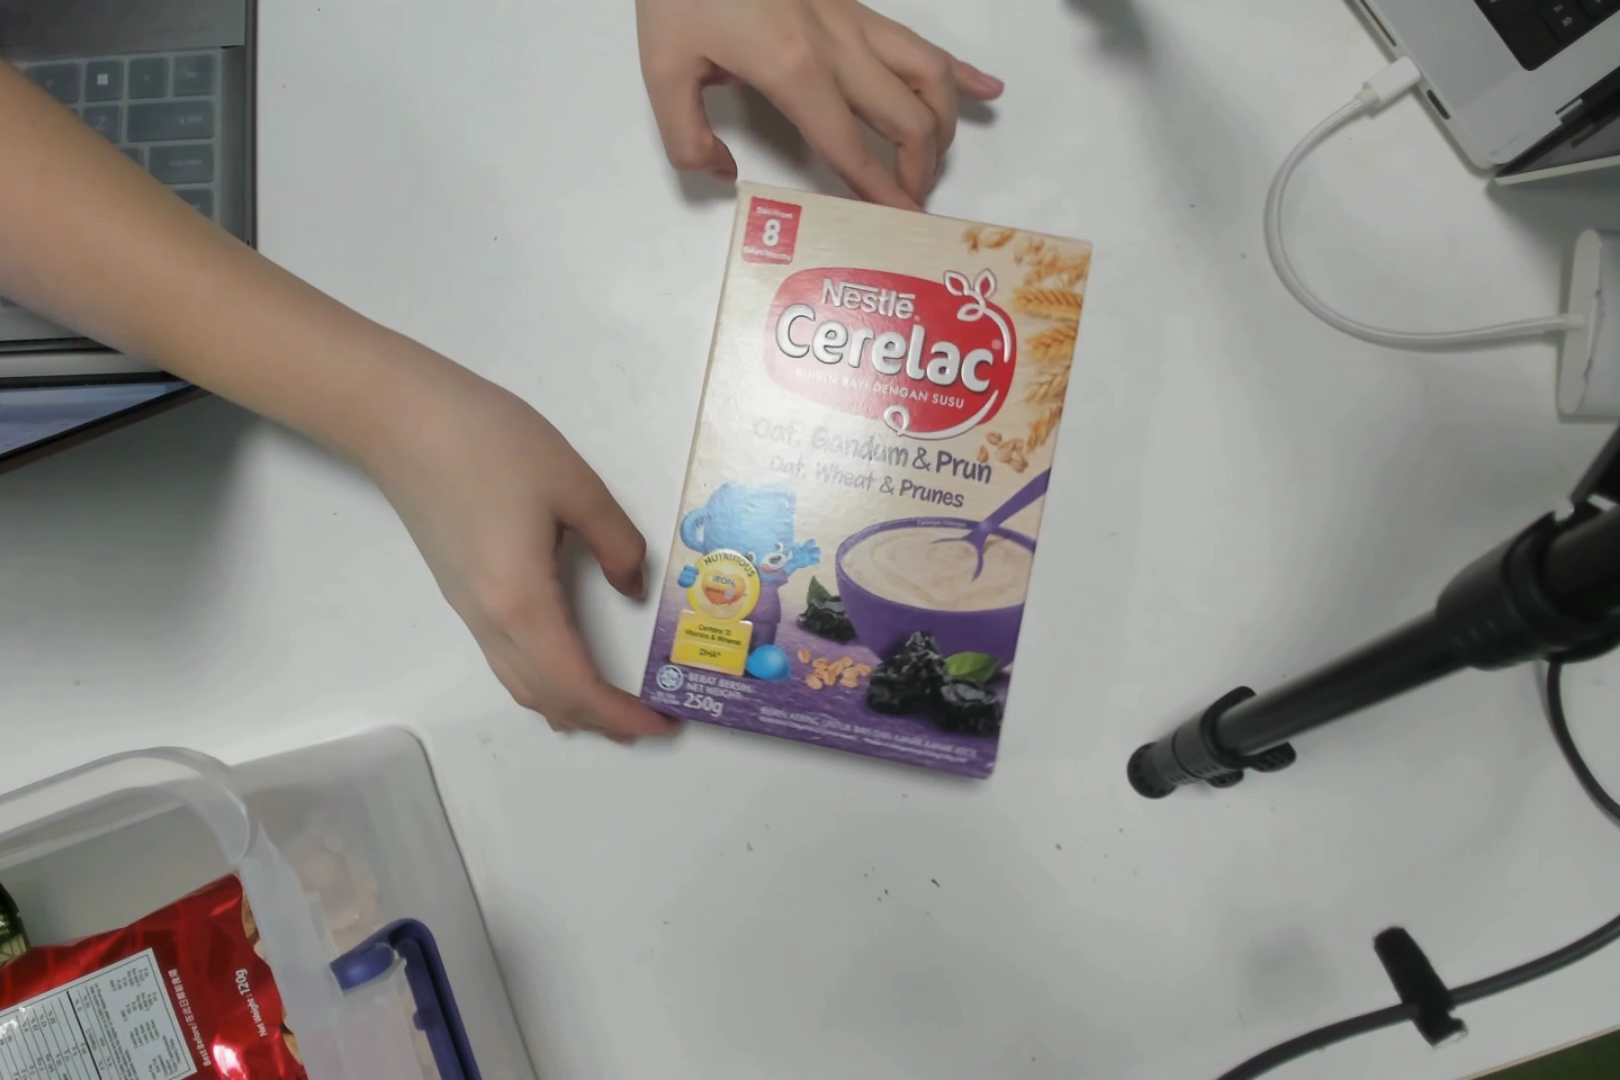d: (652, 196, 1010, 751)
